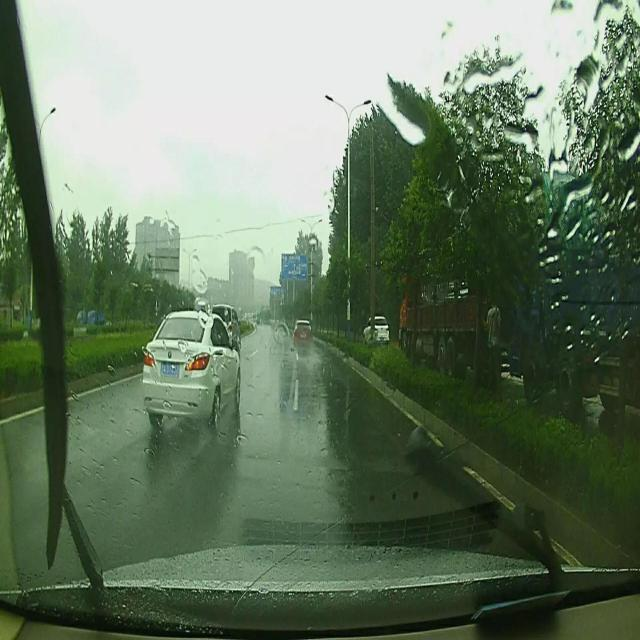car: (143, 307, 243, 433), (364, 311, 388, 339), (292, 314, 312, 347)
